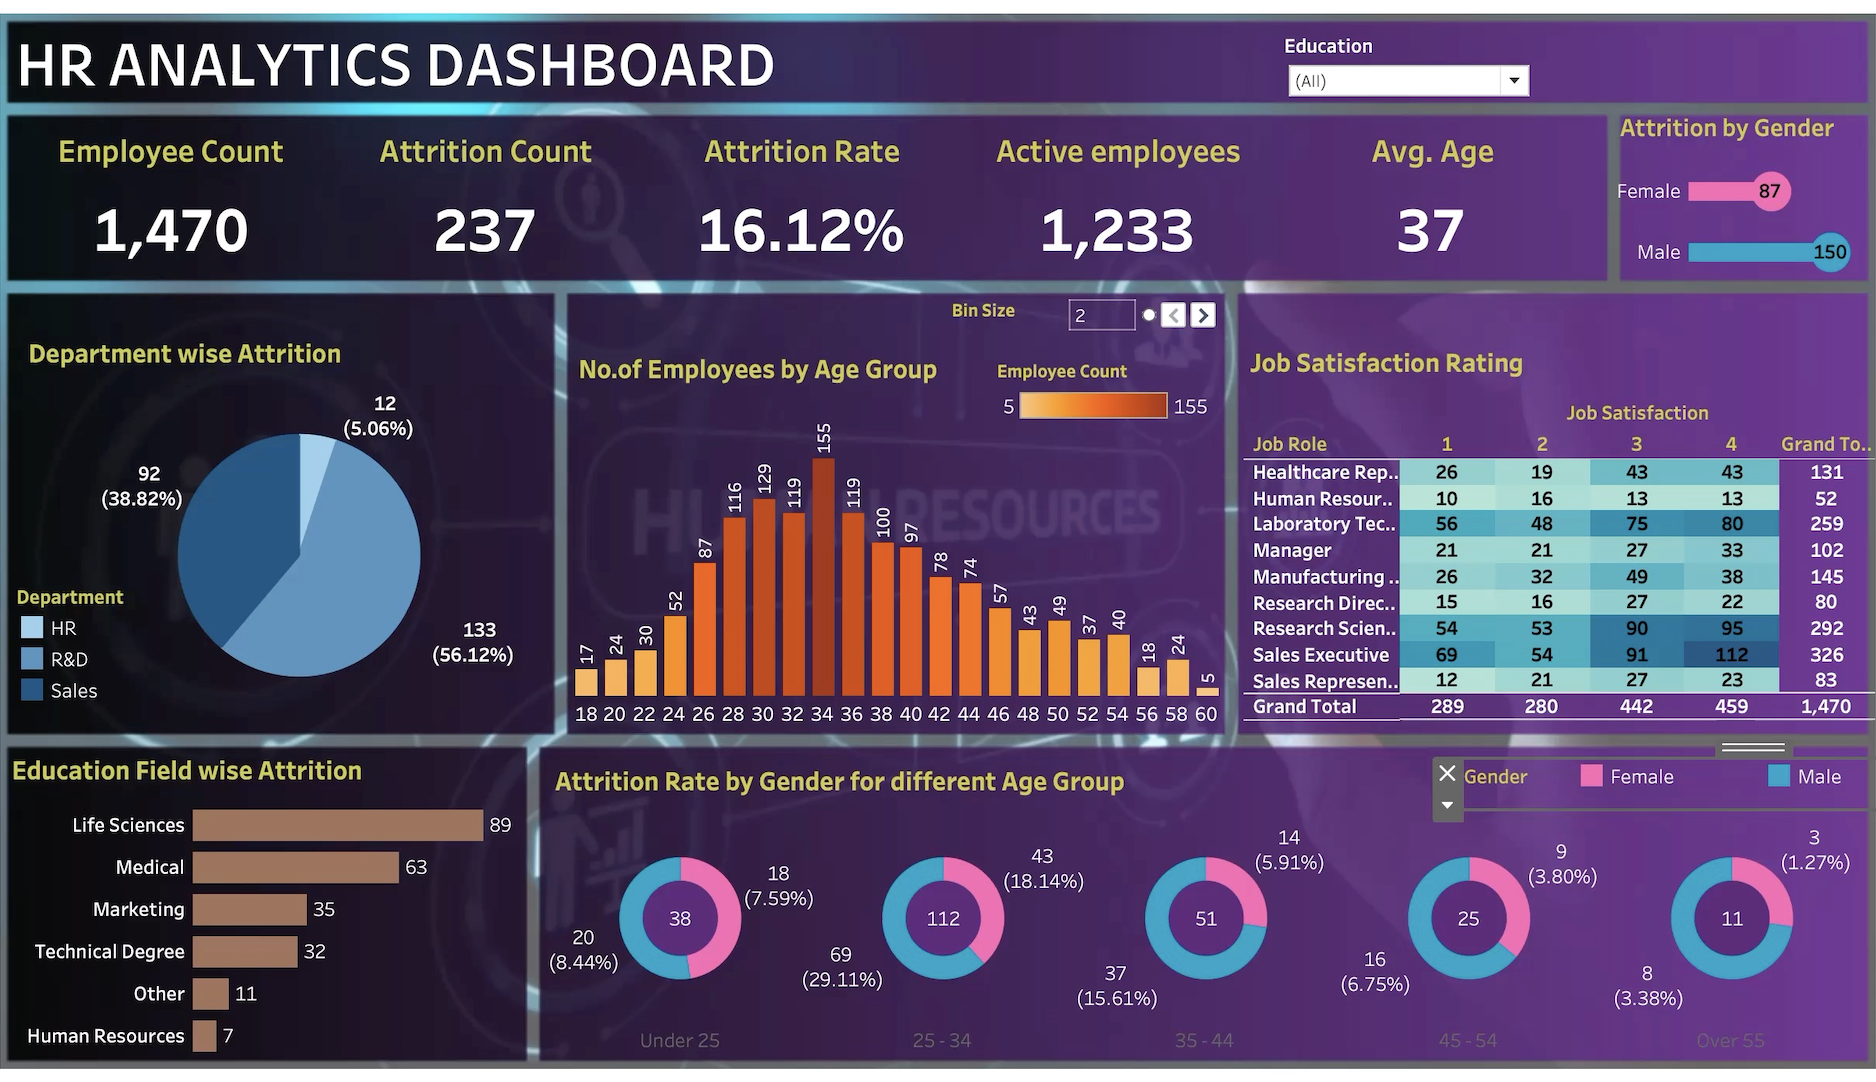

What the dashboard file says about the page in this screenshot:
{"tool":"tableau","page":{"name":"Dashboard 1","canvas":[1000,1000],"units":"permille","ordinal":0},"visuals":[{"type":"image","param":"/Users/roshikabalan/Downloads/HR background.pptx.png","box":[6.5,9.9,986.9,980.2]},{"type":"text","box":[16.3,76.7,976.4,86.6]},{"type":"filter","title":"Attrition by Gender","param":"[federated.1q1j1ki14d24es1f8arkd1a60uwa].[none:Education:nk]","box":[681.1,96.5,130.5,170.8]},{"type":"worksheet","title":"Sheet 2","mark":"Automatic","rows":["Gender"],"cols":["Calculation_0162300523085824","Calculation_0162300523085824"],"box":[853.2,153.5,128.1,141.1]},{"type":"worksheet","title":"KPI","mark":"Automatic","box":[17.1,155.9,824.2,142.3]},{"type":"parameter","param":"[Parameters].[Parameter 0308947975979008]","box":[507.3,304.5,140.3,38.4]},{"type":"worksheet","title":"Job Satisfaction Rating","mark":"Square","rows":["Job Role"],"cols":["Job Satisfaction"],"box":[659.9,339.1,330.3,303.2]},{"type":"worksheet","title":"No of Employee by Age Group","mark":"Automatic","rows":["Employee Count"],"cols":["Age (bin)"],"box":[309.1,344.1,339.3,304.5]},{"type":"legend","title":"No of Employee by Age Group","param":"[federated.1q1j1ki14d24es1f8arkd1a60uwa].[sum:Employee Count:qk]","box":[531.3,355.2,113.9,64.4]},{"type":"legend","title":"Department wise Attrition","param":"[federated.1q1j1ki14d24es1f8arkd1a60uwa].[none:Department:nk]","box":[18.7,533.4,116.4,123.8]},{"type":"worksheet","title":" Education Field wise Attrition","mark":"Automatic","rows":["Education Field"],"cols":["Calculation_0162300523085824"],"box":[13.1,662.1,277.3,246.3]},{"type":"worksheet","title":"Attrition by Gender","mark":"Pie","rows":["Calculation_0402819122888706","Calculation_0402819122888706"],"cols":["CF_age band"],"box":[296.9,670.8,686.8,236.4]}]}

Visuals, with their boxes on the dashboard's canvas, which has no fixed pixel size, in thousandths of its width and height (x1, y1, x2, y2). These are canvas units, not pixel positions in the 1876x1082 screenshot, which may show the page scaled, cropped or inside an application window:
image: x1=6 y1=10 x2=993 y2=990
text: x1=16 y1=77 x2=993 y2=163
"Attrition by Gender" filter: x1=681 y1=96 x2=812 y2=267
"Sheet 2" worksheet: x1=853 y1=154 x2=981 y2=295
"KPI" worksheet: x1=17 y1=156 x2=841 y2=298
parameter: x1=507 y1=304 x2=648 y2=343
"Job Satisfaction Rating" worksheet (Square marks): x1=660 y1=339 x2=990 y2=642
"No of Employee by Age Group" worksheet: x1=309 y1=344 x2=648 y2=649
"No of Employee by Age Group" legend: x1=531 y1=355 x2=645 y2=420
"Department wise Attrition" legend: x1=19 y1=533 x2=135 y2=657
" Education Field wise Attrition" worksheet: x1=13 y1=662 x2=290 y2=908
"Attrition by Gender" worksheet (Pie marks): x1=297 y1=671 x2=984 y2=907
